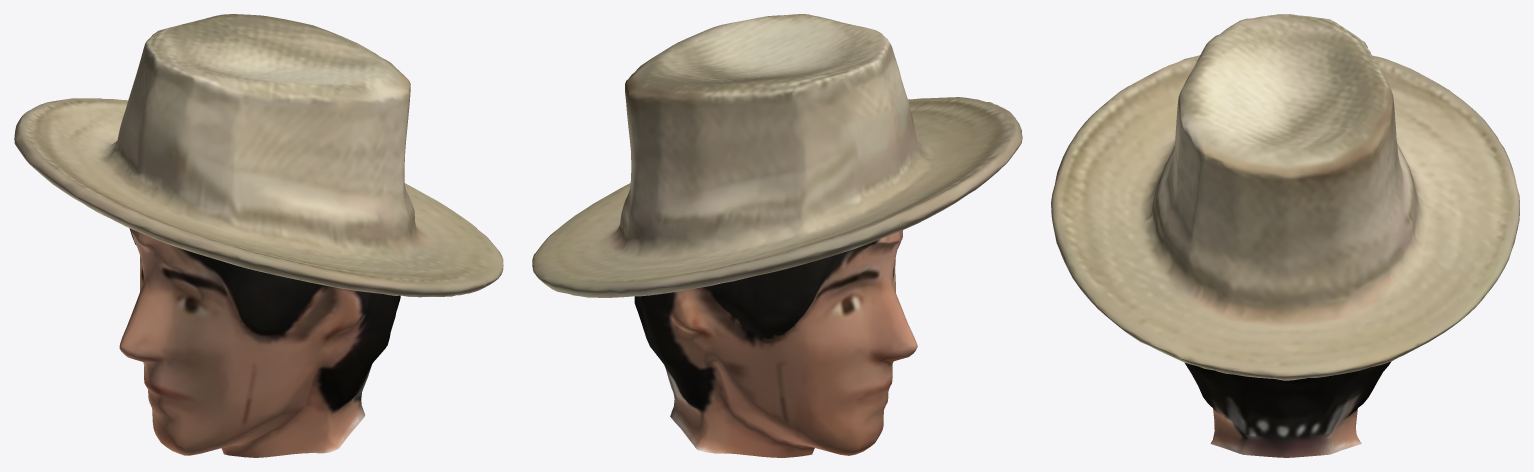
File: head.obj
The picture shows the model from 3 angles, left to right: view 1: azimuth 30°, elevation 25°; view 2: azimuth 150°, elevation 25°; view 3: azimuth 270°, elevation 25°; orthographic projection. The views are drawn at different scales.
Visible parts, largest first — view 1: Head_and_Hat; view 2: Head_and_Hat; view 3: Head_and_Hat.
Boxes of the visible parts, <box> form: Head_and_Hat: <box>14,14,503,457</box>; Head_and_Hat: <box>532,14,1022,457</box>; Head_and_Hat: <box>1051,14,1519,457</box>.
Bounding box in the file's own units: 0.0375 × 0.0351 × 0.039.
1 material, 1 textured.
